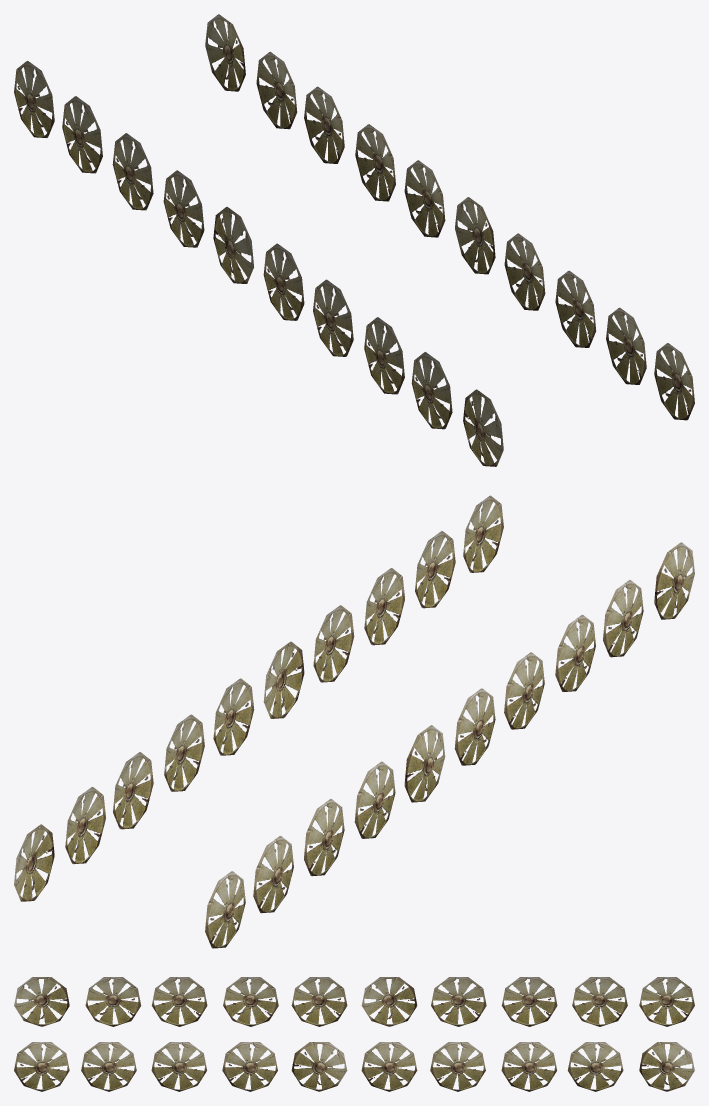
Rendered from kart_bireme_shields_2.dae.
The picture shows the model from 3 angles, top to bottom: view 1: azimuth 30°, elevation 25°; view 2: azimuth 150°, elevation 25°; view 3: azimuth 270°, elevation 25°; orthographic projection. The views are drawn at different scales.
Parts seen in each view (by area): view 1: Cylinder018; view 2: Cylinder018; view 3: Cylinder018.
Part boxes in pixels (bbox=[...]): Cylinder018: bbox=[14, 14, 694, 466]; Cylinder018: bbox=[14, 495, 694, 948]; Cylinder018: bbox=[14, 977, 694, 1091].
Bounding box in the file's own units: 4.96 × 1.68 × 20.9.
